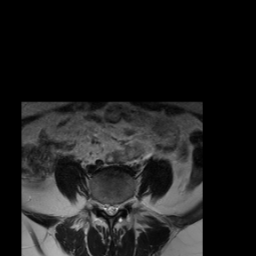CCS_stenosis: (108, 199, 114, 219)
LFS_normal: (119, 197, 126, 216)
LLS_normal: (114, 199, 119, 217)
RFS_normal: (96, 197, 102, 212)
RLS_normal: (102, 198, 109, 217)
